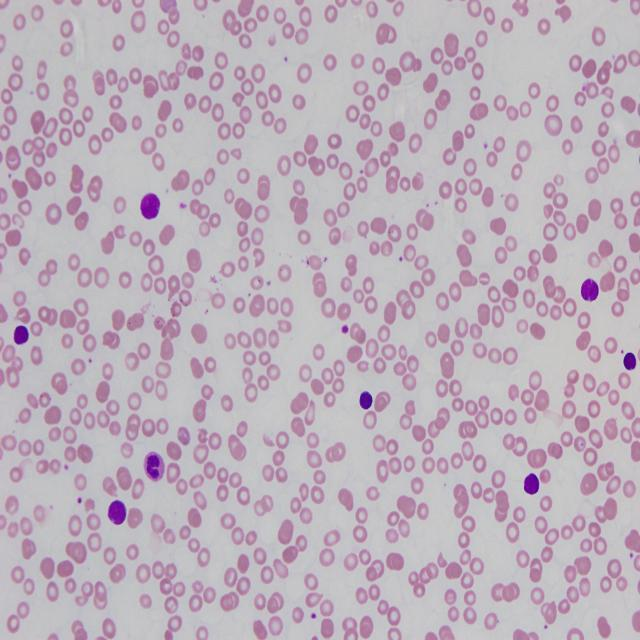cell: (144, 452, 165, 482), (140, 193, 160, 220), (108, 500, 126, 525), (581, 278, 599, 302), (524, 473, 539, 495), (14, 325, 29, 345), (359, 392, 372, 410), (624, 352, 636, 370)
